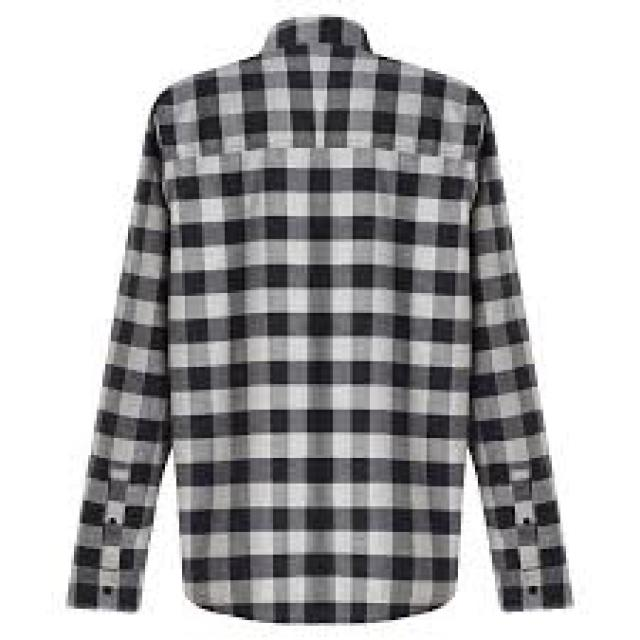plaid: (60, 15, 578, 623)
